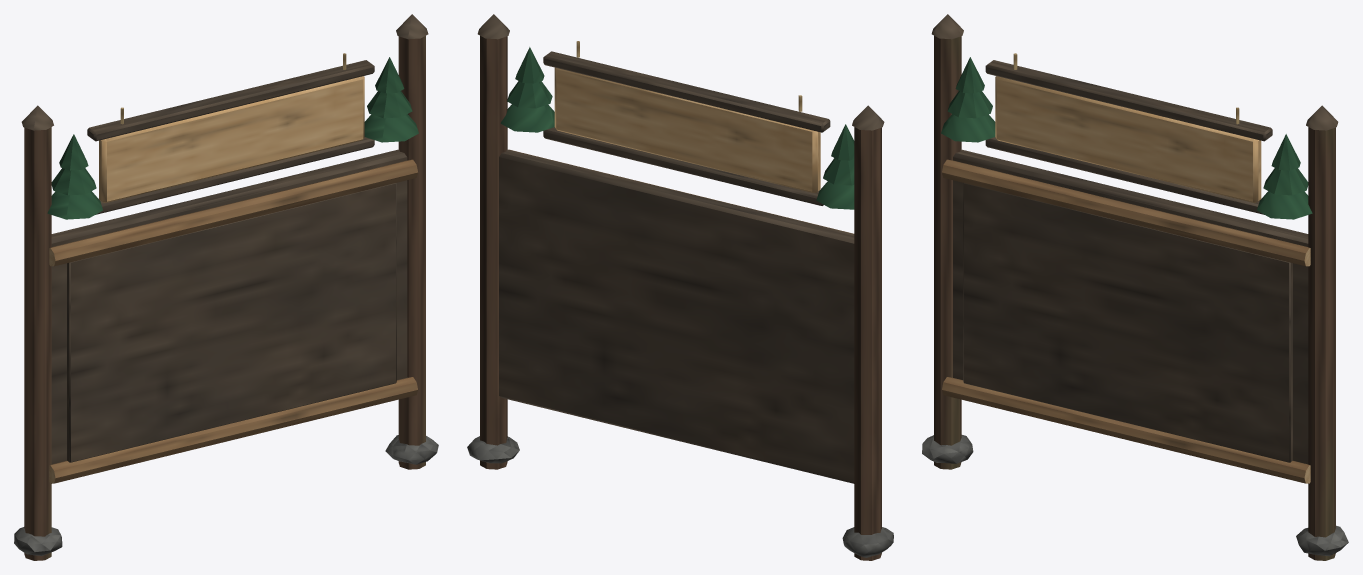
Rendered from SM_Lobby_QuestBoard.fbx.
The picture shows the model from 3 angles, left to right: view 1: azimuth 30°, elevation 25°; view 2: azimuth 150°, elevation 25°; view 3: azimuth 330°, elevation 25°; orthographic projection.
Visible parts, largest first — view 1: SM_Lobby_QuestBoard; view 2: SM_Lobby_QuestBoard; view 3: SM_Lobby_QuestBoard.
Part boxes in pixels (x1,y1,x2,y2): SM_Lobby_QuestBoard: (14, 14, 438, 560); SM_Lobby_QuestBoard: (467, 14, 893, 560); SM_Lobby_QuestBoard: (922, 14, 1348, 560).
Bounding box in the file's own units: 14.32 × 14.7 × 2.13.
1 material, 1 textured.
